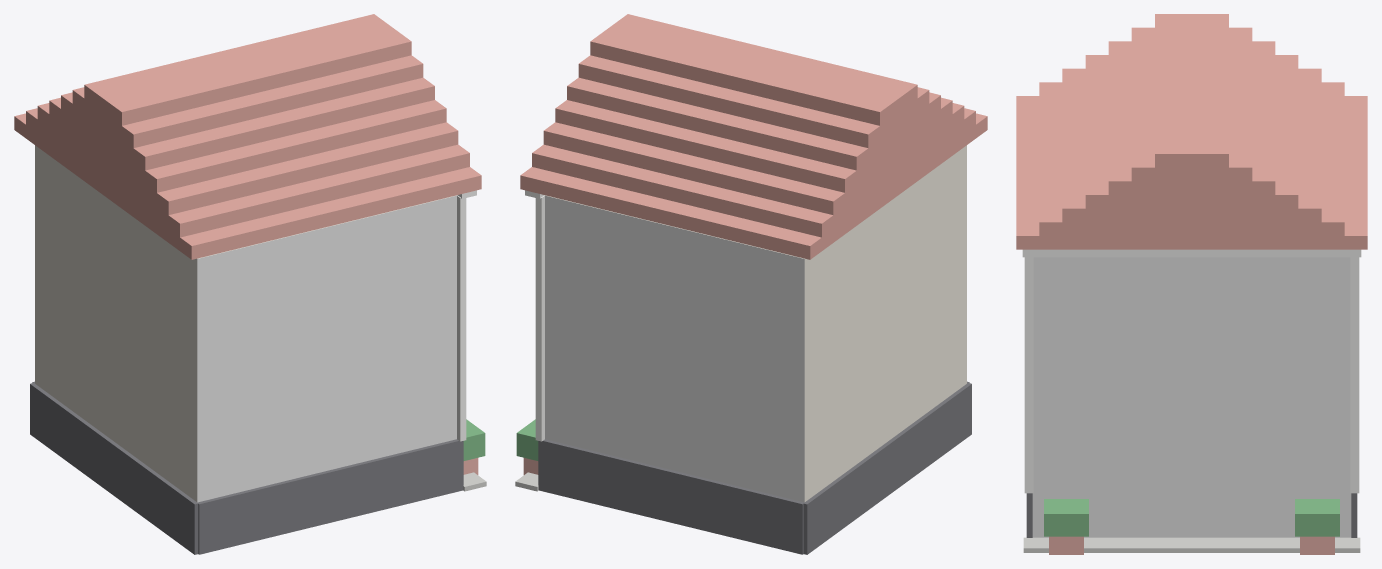
Rendered from FShop_Sq_Gable.fbx.
3 renders of one model, left to right at view 1: azimuth 30°, elevation 25°; view 2: azimuth 150°, elevation 25°; view 3: azimuth 270°, elevation 25°, orthographic.
Visible parts, largest first — view 1: FShop_Sq_Gable; view 2: FShop_Sq_Gable; view 3: FShop_Sq_Gable.
Part boxes in pixels (x1,y1,x2,y2): FShop_Sq_Gable: (14, 14, 486, 554); FShop_Sq_Gable: (515, 14, 987, 554); FShop_Sq_Gable: (1016, 14, 1367, 554).
Bounding box in the file's own units: 7 × 8.67 × 7.
